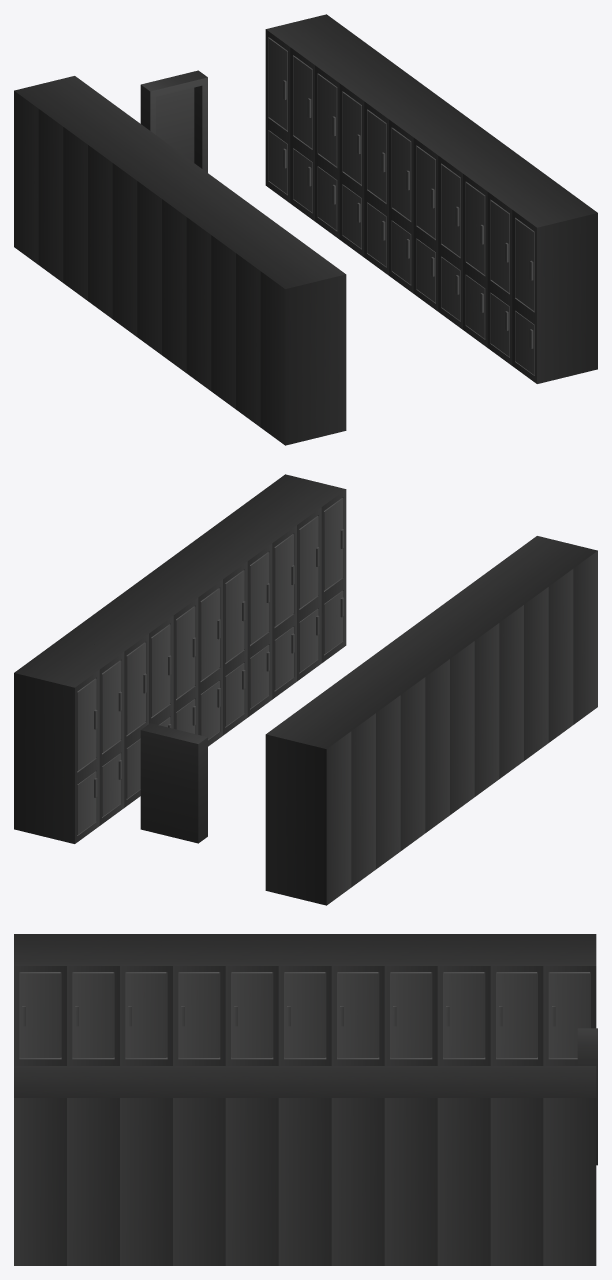
The model's file is Gunlockers.fbx.
The picture shows the model from 3 angles, top to bottom: view 1: azimuth 30°, elevation 25°; view 2: azimuth 150°, elevation 25°; view 3: azimuth 270°, elevation 25°; orthographic projection. The views are drawn at different scales.
Parts seen in each view (by area): view 1: Gunlockers, Gunlockers1, Gunlockers2; view 2: Gunlockers, Gunlockers1, Gunlockers2; view 3: Gunlockers1, Gunlockers, Gunlockers2.
Part boxes in pixels (x1=…): Gunlockers: x1=14, y1=76, x2=346, y2=445; Gunlockers1: x1=265, y1=14, x2=597, y2=383; Gunlockers2: x1=140, y1=70, x2=207, y2=172; Gunlockers: x1=265, y1=536, x2=597, y2=905; Gunlockers1: x1=14, y1=474, x2=346, y2=843; Gunlockers2: x1=140, y1=723, x2=207, y2=843; Gunlockers1: x1=14, y1=1066, x2=596, y2=1265; Gunlockers: x1=14, y1=934, x2=596, y2=1065; Gunlockers2: x1=577, y1=1028, x2=597, y2=1165.
Bounding box in the file's own units: 996 × 476 × 1500.
1 material, 1 textured.
